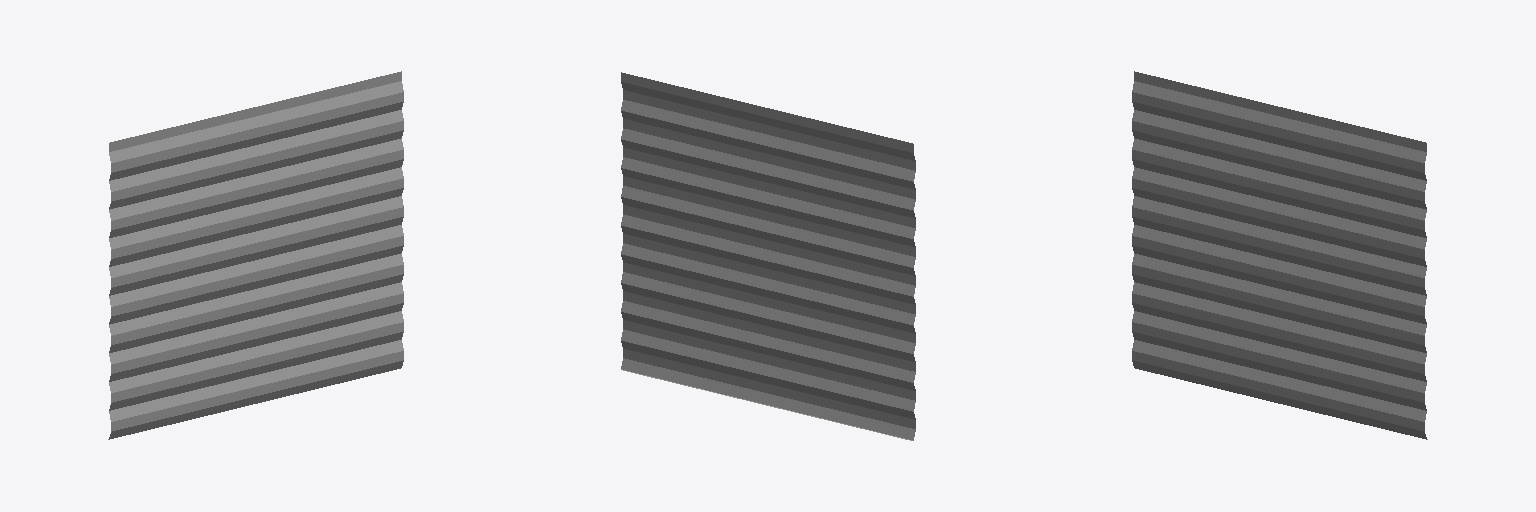
Rendered from GarageDoor.obj.
3 views of the same model, side by side, from view 1: azimuth 30°, elevation 25°; view 2: azimuth 150°, elevation 25°; view 3: azimuth 330°, elevation 25° (orthographic).
Visible parts, largest first — view 1: Cube; view 2: Cube; view 3: Cube.
Boxes of the visible parts, x1=… form: Cube: x1=108, y1=71, x2=403, y2=439; Cube: x1=621, y1=72, x2=915, y2=440; Cube: x1=1132, y1=71, x2=1427, y2=439.
Size of the model in its own units: 2 by 1.94 by 0.035.